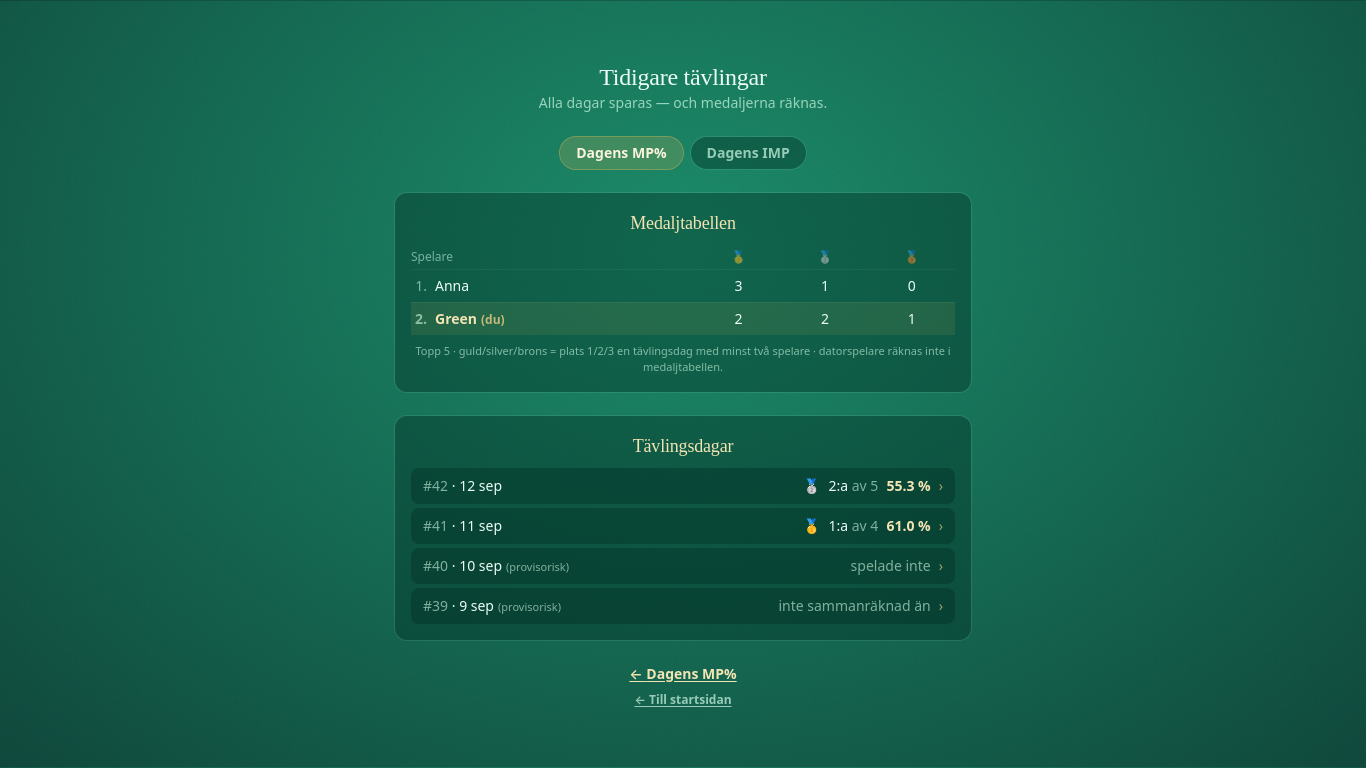
Test: tävlingshistoriken › dagvyn (klick på en dag): hämtar den dagen, visar ställningen (slutlig) och alla brickor
Click the button titled "Visa tävling #41" at (481, 525), box left=411, top=508, right=955, bottom=544
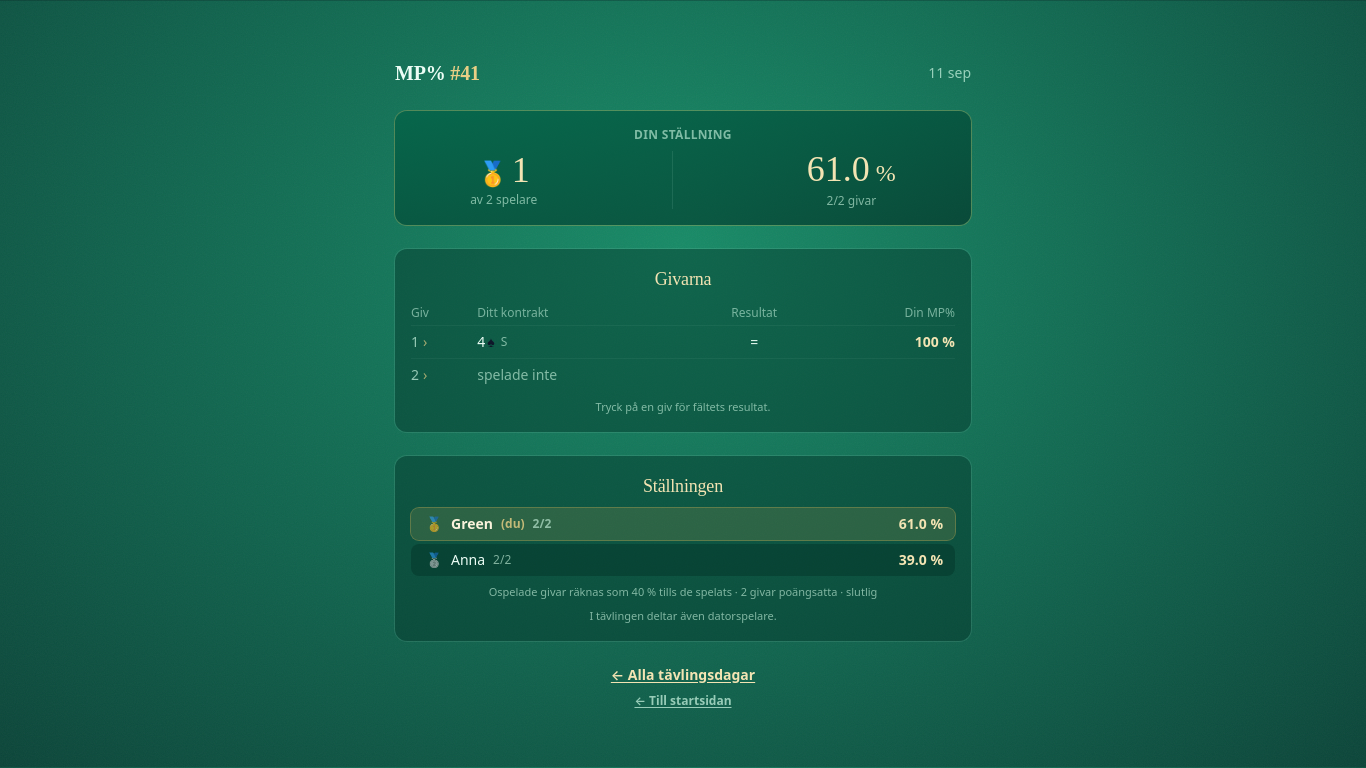
Expected: the heading "Ställningen" is shown, left=643, top=476, right=723, bottom=496
Expected: the text "slutlig" is shown, left=846, top=584, right=877, bottom=599
Expected: the heading "Givarna" is shown, left=655, top=269, right=711, bottom=289
